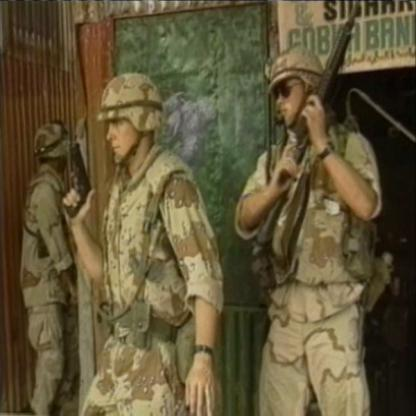Gun: (256, 0, 367, 243), (63, 140, 92, 221)
